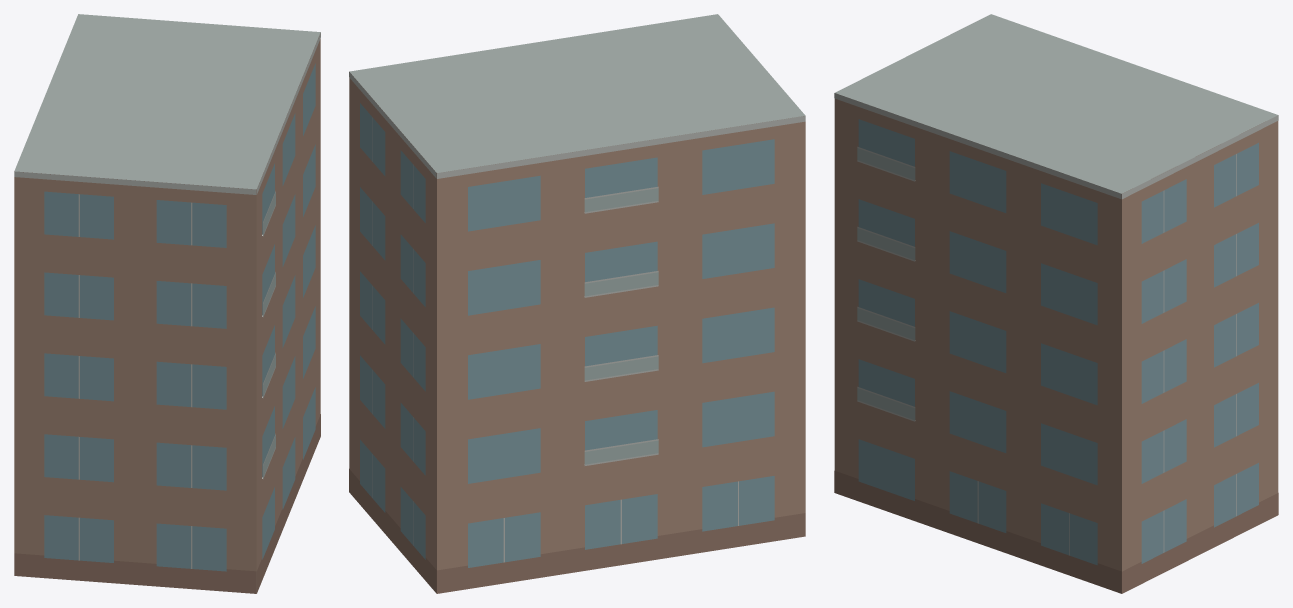
Rendered from survey-upis-32883340.glb.
The picture shows the model from 3 angles, left to right: view 1: azimuth 30°, elevation 25°; view 2: azimuth 150°, elevation 25°; view 3: azimuth 270°, elevation 25°; orthographic projection. The views are drawn at different scales.
Parts seen in each view (by area): view 1: survey-upis-32883340.tmp; view 2: survey-upis-32883340.tmp; view 3: survey-upis-32883340.tmp.
Part boxes in pixels (box(x1,y1,x2,y2)): survey-upis-32883340.tmp: box(14, 14, 320, 593); survey-upis-32883340.tmp: box(349, 14, 805, 593); survey-upis-32883340.tmp: box(834, 14, 1278, 593).
Bounding box in the file's own units: 16.88 × 17.5 × 17.61.
